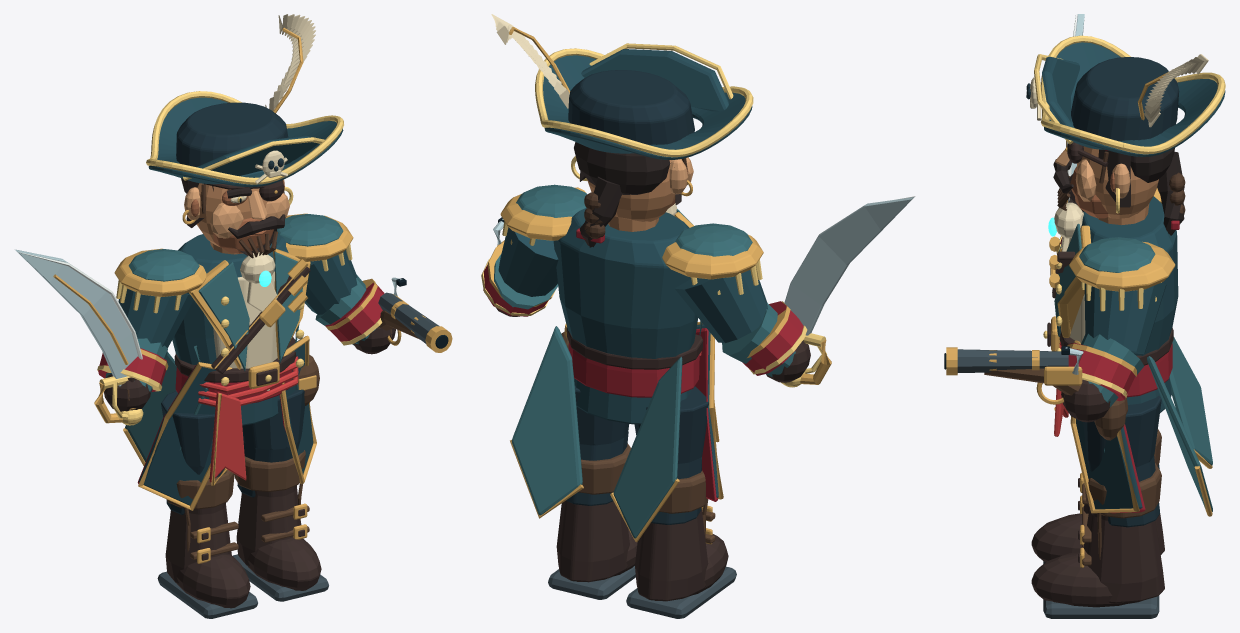
File: pirate.glb
The picture shows the model from 3 angles, left to right: view 1: azimuth 30°, elevation 25°; view 2: azimuth 150°, elevation 25°; view 3: azimuth 270°, elevation 25°; orthographic projection. The views are drawn at different scales.
Visible parts, largest first — view 1: Captain — midnight peacock wool mesh, Antique gold mesh.002, Weathered dark leather mesh.001, Captain — cut teal panels mesh, Weathered dark leather mesh, Captain — shadow fold mesh.002, Captain — midnight peacock wool mesh.003, Moon silver mesh, Scarlet folds mesh, Polished gold edge mesh.003, Aged linen mesh, Captain — shadow fold mesh.001 (+29 smaller); view 2: Captain — midnight peacock wool mesh, Captain — cut teal panels mesh, Captain — midnight peacock wool mesh.003, Captain — shadow fold mesh.002, Weathered dark leather mesh, Moon silver mesh, Weathered dark leather mesh.001, Oxblood silk mesh, Charcoal hair mesh, Captain — midnight peacock wool mesh.001, Polished gold edge mesh.003, Captain — cut teal panels mesh.001 (+20 smaller); view 3: Weathered dark leather mesh.001, Captain — shadow fold mesh.002, Captain — midnight peacock wool mesh, Captain — midnight peacock wool mesh.003, Captain — cut teal panels mesh, Captain — midnight peacock wool mesh.002, Polished gold edge mesh.003, Captain — shadow fold mesh.001, Antique gold mesh.002, Charcoal hair mesh, Captain — cut teal panels mesh.002, Antique gold mesh.004 (+19 smaller).
Boxes of the visible parts, left/top/right/bottom form: Captain — midnight peacock wool mesh: left=139, top=233, right=313, bottom=505; Antique gold mesh.002: left=123, top=249, right=316, bottom=510; Weathered dark leather mesh.001: left=236, top=485, right=321, bottom=590; Captain — cut teal panels mesh: left=125, top=252, right=303, bottom=461; Weathered dark leather mesh: left=165, top=503, right=250, bottom=608; Captain — shadow fold mesh.002: left=176, top=102, right=288, bottom=171; Captain — midnight peacock wool mesh.003: left=148, top=97, right=343, bottom=187; Moon silver mesh: left=15, top=249, right=137, bottom=386; Scarlet folds mesh: left=198, top=356, right=298, bottom=482; Polished gold edge mesh.003: left=146, top=91, right=343, bottom=204; Aged linen mesh: left=213, top=252, right=277, bottom=390; Captain — shadow fold mesh.001: left=237, top=389, right=305, bottom=497; Captain — midnight peacock wool mesh: left=553, top=208, right=718, bottom=497; Captain — cut teal panels mesh: left=512, top=209, right=702, bottom=538; Captain — midnight peacock wool mesh.003: left=543, top=49, right=752, bottom=159; Captain — shadow fold mesh.002: left=568, top=70, right=694, bottom=144; Weathered dark leather mesh: left=635, top=508, right=728, bottom=601; Moon silver mesh: left=784, top=197, right=914, bottom=335; Weathered dark leather mesh.001: left=556, top=500, right=637, bottom=582; Oxblood silk mesh: left=568, top=328, right=717, bottom=501; Charcoal hair mesh: left=574, top=142, right=681, bottom=247; Captain — midnight peacock wool mesh.001: left=674, top=270, right=767, bottom=343; Polished gold edge mesh.003: left=535, top=43, right=753, bottom=180; Captain — cut teal panels mesh.001: left=675, top=223, right=795, bottom=376; Weathered dark leather mesh.001: left=1031, top=506, right=1164, bottom=607; Captain — shadow fold mesh.002: left=1026, top=57, right=1179, bottom=141; Captain — midnight peacock wool mesh: left=1076, top=196, right=1178, bottom=509; Captain — midnight peacock wool mesh.003: left=1042, top=42, right=1225, bottom=156; Captain — cut teal panels mesh: left=1054, top=223, right=1212, bottom=511; Captain — midnight peacock wool mesh.002: left=1084, top=283, right=1166, bottom=354; Polished gold edge mesh.003: left=1034, top=35, right=1225, bottom=213; Captain — shadow fold mesh.001: left=1083, top=395, right=1161, bottom=527; Antique gold mesh.002: left=1049, top=225, right=1212, bottom=516; Charcoal hair mesh: left=1053, top=148, right=1184, bottom=235; Captain — cut teal panels mesh.002: left=1079, top=237, right=1155, bottom=406; Antique gold mesh.004: left=1067, top=241, right=1175, bottom=376.
Size of the model in its own units: 1.94 by 2.54 by 1.12.
